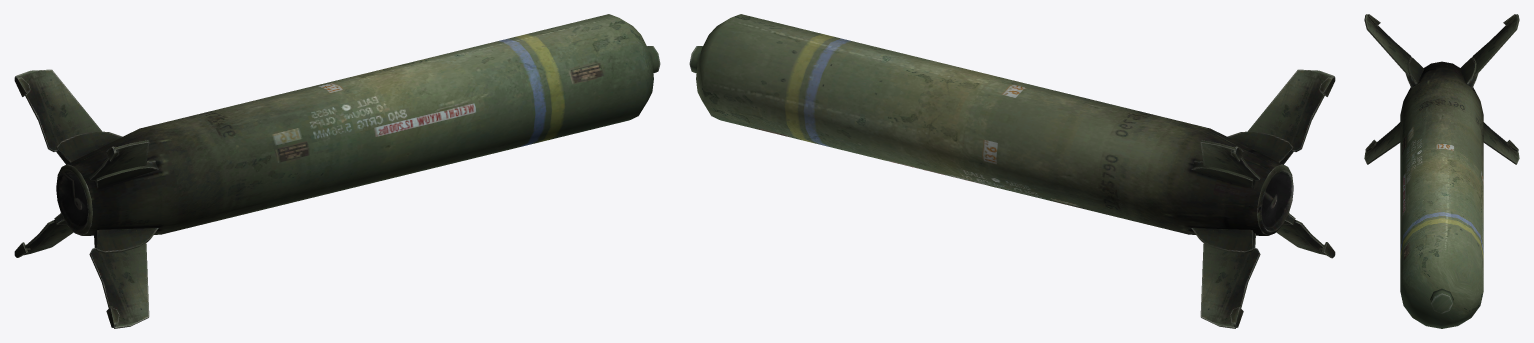
File: projectile_cbu97_clusterbomb_LOD0.obj
3 views of the same model, side by side, from view 1: azimuth 30°, elevation 25°; view 2: azimuth 150°, elevation 25°; view 3: azimuth 270°, elevation 25° (orthographic). The views are drawn at different scales.
Visible parts, largest first — view 1: mtl_cbu97_clusterbomb; view 2: mtl_cbu97_clusterbomb; view 3: mtl_cbu97_clusterbomb.
Part boxes in pixels (left/top/right/bottom): mtl_cbu97_clusterbomb: left=14, top=14, right=660, bottom=328; mtl_cbu97_clusterbomb: left=689, top=14, right=1335, bottom=328; mtl_cbu97_clusterbomb: left=1364, top=14, right=1519, bottom=328.
Bounding box in the file's own units: 241 × 71.19 × 71.19.
